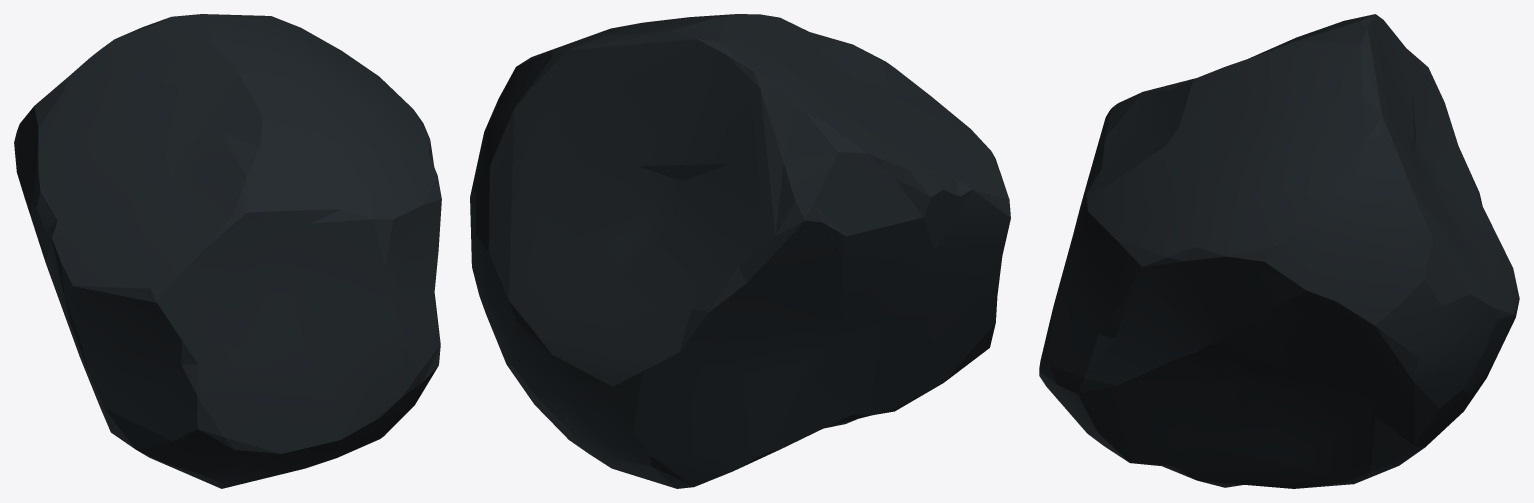
Rendered from Asteroid_m_11.FBX.
The picture shows the model from 3 angles, left to right: view 1: azimuth 30°, elevation 25°; view 2: azimuth 150°, elevation 25°; view 3: azimuth 270°, elevation 25°; orthographic projection. The views are drawn at different scales.
Visible parts, largest first — view 1: Asteroid_m_11; view 2: Asteroid_m_11; view 3: Asteroid_m_11.
Part boxes in pixels (bbox=[...]): Asteroid_m_11: bbox=[14, 14, 441, 488]; Asteroid_m_11: bbox=[470, 14, 1010, 488]; Asteroid_m_11: bbox=[1039, 14, 1519, 488].
Size of the model in its own units: 928 by 862 by 912.
